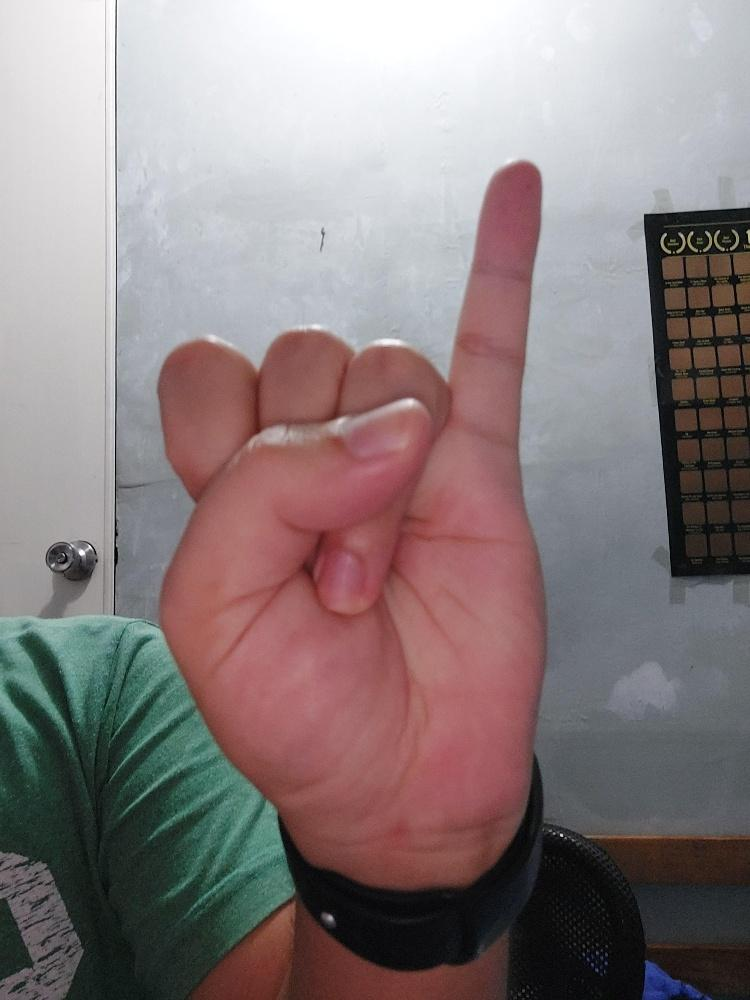i: (151, 152, 550, 828)
